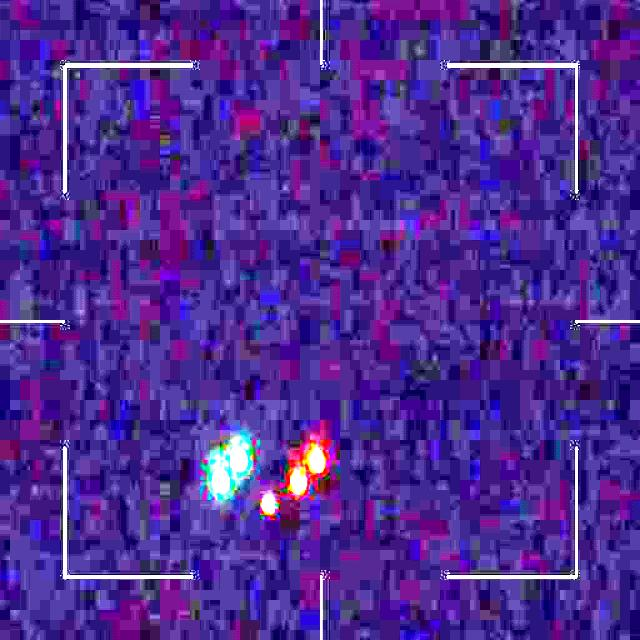bird: (209, 432, 325, 516)
